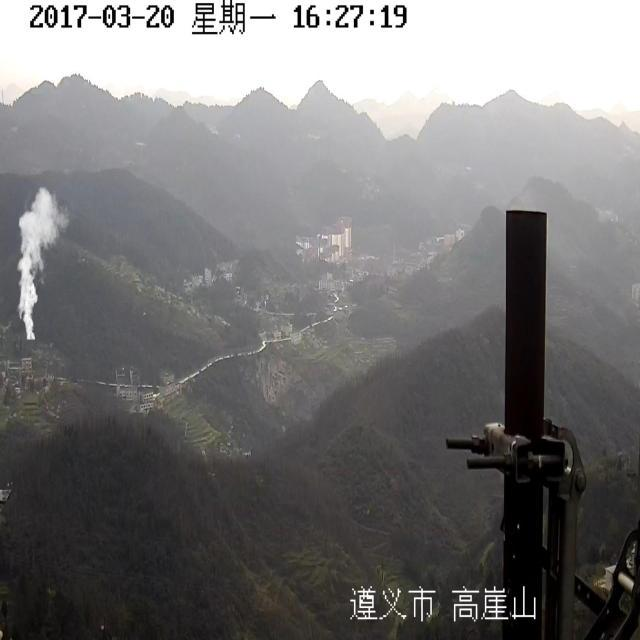Smoke: (16, 184, 72, 344)
